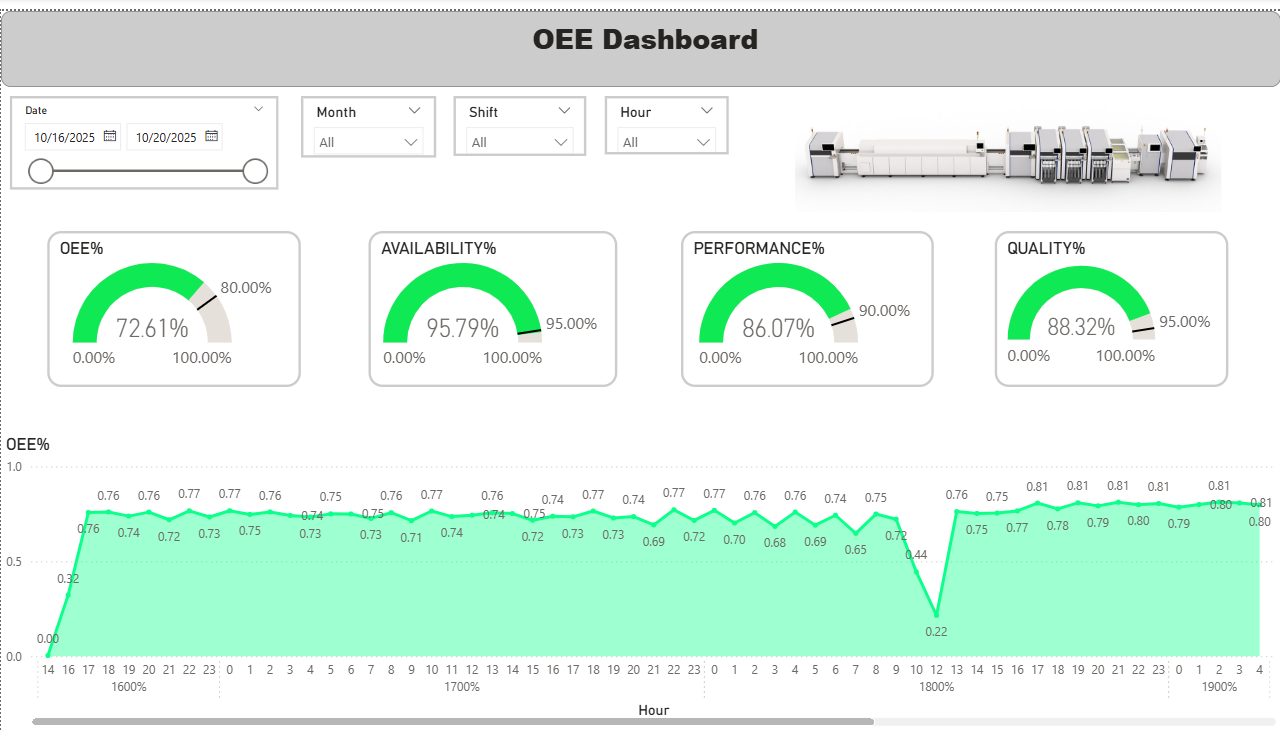

What the dashboard file says about the page in this screenshot:
{"tool":"powerbi","page":{"name":"OEE","canvas":[1280,720],"ordinal":0},"visuals":[{"type":"textbox","box":[0,0,1280,76.2],"z":0},{"type":"gauge","title":"OEE%","fields":{"Y":["Avg(OEE.OEE)"]},"box":[46.2,220,253.8,156.2],"z":1000},{"type":"slicer","fields":{"Values":["date_hour_dim.Date"]},"box":[8.8,85,268.8,93.8],"z":2000},{"type":"slicer","fields":{"Values":["shift_dim.Shift"]},"box":[452.5,85,132.5,60],"z":3000},{"type":"slicer","fields":{"Values":["shift_dim.Hour"]},"box":[603.8,85,123.8,58.8],"z":4000},{"type":"slicer","fields":{"Values":["calendar_dim.Month"]},"box":[300,85,135,61.2],"z":5000},{"type":"areaChart","title":"OEE%","fields":{"Category":["date_hour_dim.date_hour.Variation.Date Hierarchy.Day","date_hour_dim.Hour"],"Y":["Avg(OEE.OEE)"]},"box":[0,422.5,1280,297.5],"z":6000},{"type":"image","box":[750,85,513.8,121.2],"z":7000},{"type":"gauge","title":"AVAILABILITY%","fields":{"Y":["Avg(OEE.availability)"]},"box":[367.5,220,248.8,156.2],"z":8000},{"type":"gauge","title":"PERFORMANCE%","fields":{"Y":["Avg(OEE.performance)"]},"box":[680,220,252.5,156.2],"z":9000},{"type":"gauge","title":"QUALITY%","fields":{"Y":["Avg(OEE.quality)"]},"box":[993.8,220,233.8,156.2],"z":10000}]}

Visuals, with their boxes in screenshot pixels (x1, y1, x2, y2), scaled from the page's 1280x720 canvas onto the 1280x730 screenshot:
textbox: <bbox>0, 0, 1279, 77</bbox>
"OEE%" gauge: <bbox>46, 223, 300, 381</bbox>
slicer - date_hour_dim.Date: <bbox>9, 86, 278, 181</bbox>
slicer - shift_dim.Shift: <bbox>452, 86, 585, 147</bbox>
slicer - shift_dim.Hour: <bbox>604, 86, 728, 146</bbox>
slicer - calendar_dim.Month: <bbox>300, 86, 435, 148</bbox>
"OEE%" areaChart: <bbox>0, 428, 1279, 729</bbox>
image: <bbox>750, 86, 1264, 209</bbox>
"AVAILABILITY%" gauge: <bbox>368, 223, 616, 381</bbox>
"PERFORMANCE%" gauge: <bbox>680, 223, 932, 381</bbox>
"QUALITY%" gauge: <bbox>994, 223, 1228, 381</bbox>
